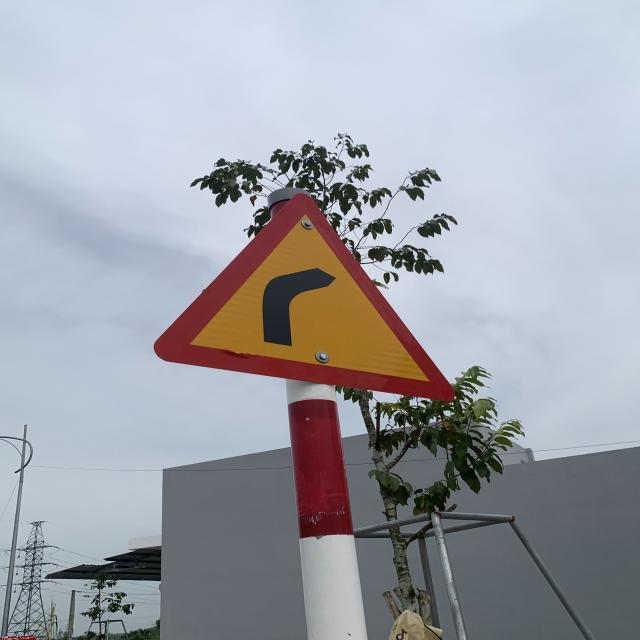Duong_Nguoi_Di_Bo_Cat_Ngang: (152, 192, 458, 402)
